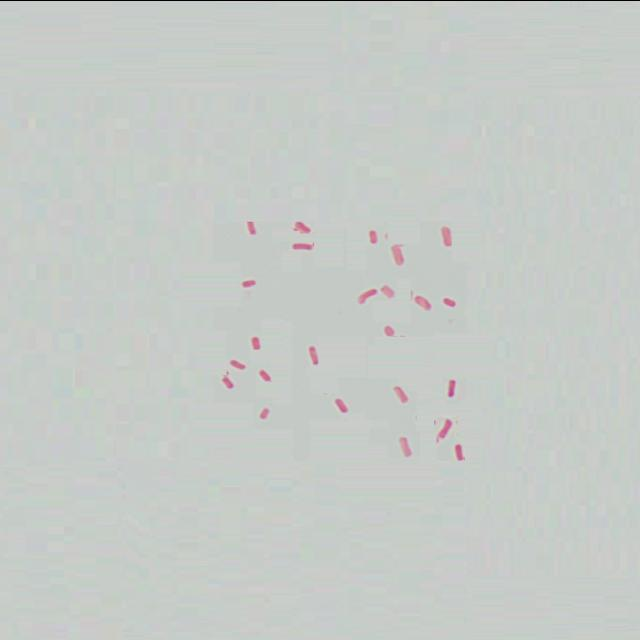E-coli: (393, 434, 416, 460), (302, 342, 326, 366), (389, 241, 409, 267), (438, 223, 458, 247), (409, 294, 435, 312), (442, 378, 464, 398), (438, 415, 453, 443), (353, 288, 379, 304), (392, 384, 412, 404), (246, 330, 266, 350), (331, 399, 353, 417), (224, 356, 252, 370), (285, 240, 319, 251), (452, 441, 468, 463), (439, 296, 461, 311), (363, 229, 385, 244), (257, 370, 277, 386), (219, 373, 239, 389), (381, 321, 401, 337), (243, 217, 259, 237), (293, 219, 313, 233), (237, 277, 261, 288), (256, 406, 272, 421), (380, 286, 395, 298)
